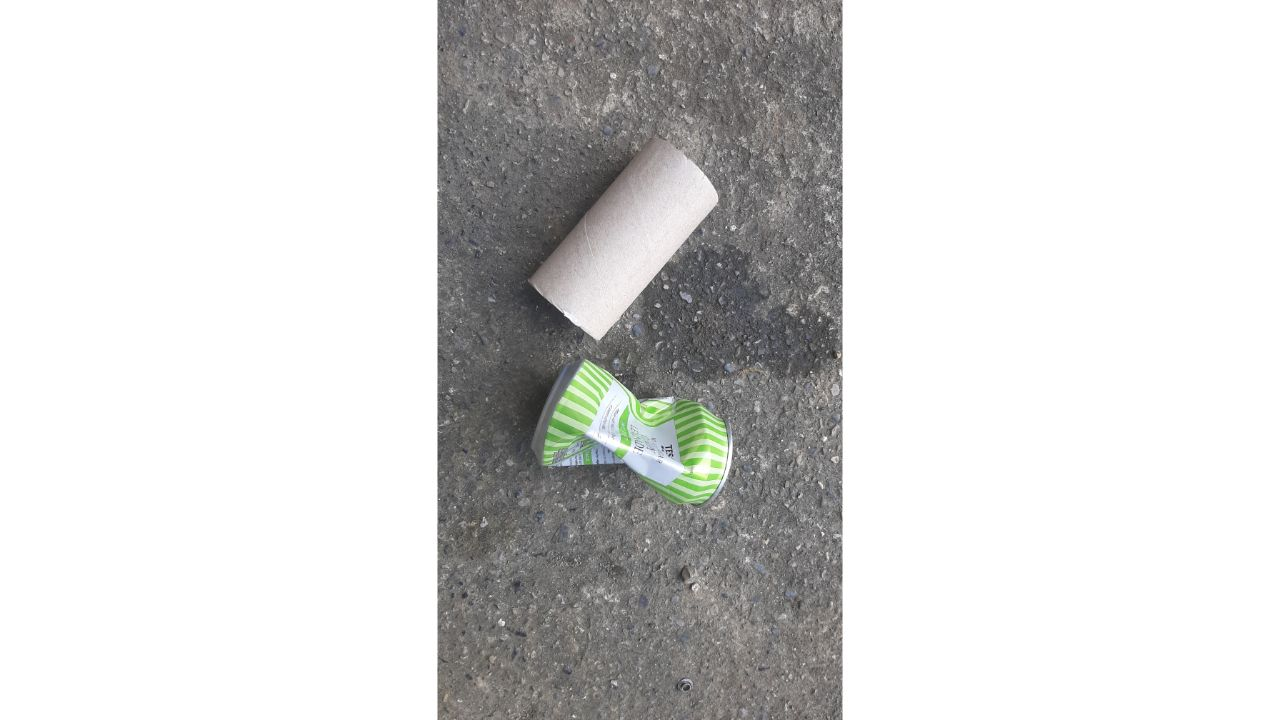Can: (521, 348, 746, 521)
